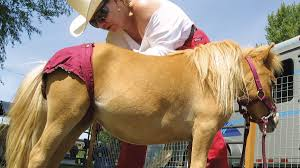Horse: (22, 27, 288, 157)
